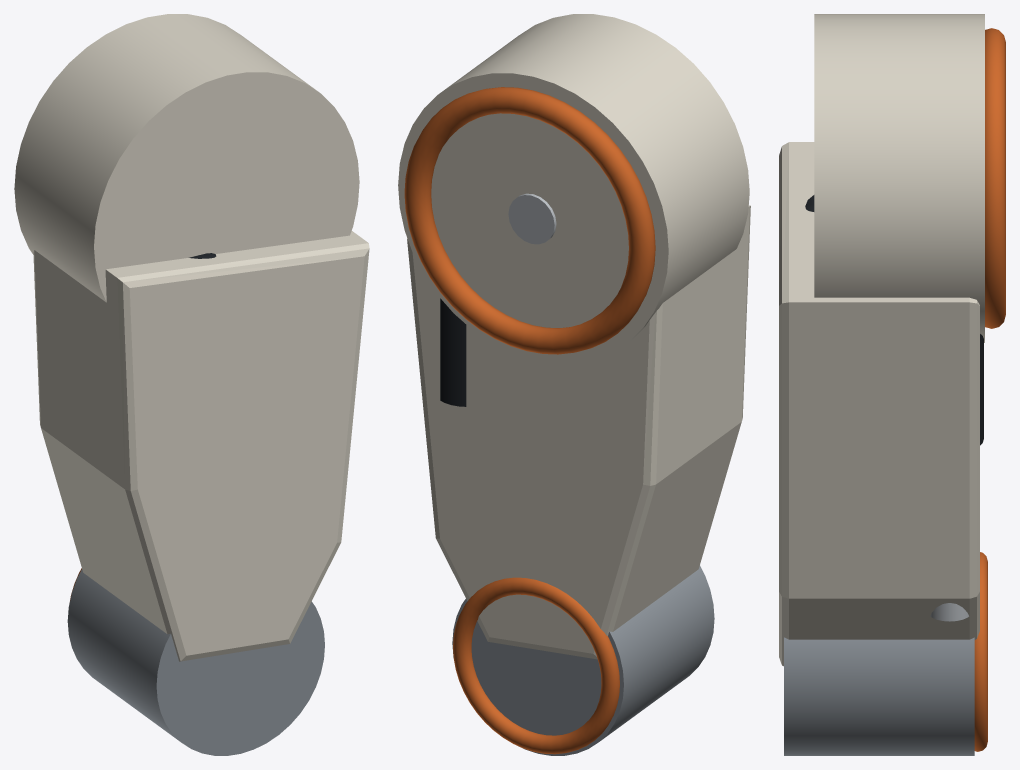
Rendered from left_thigh_link.glb.
3 renders of one model, left to right at view 1: azimuth 30°, elevation 25°; view 2: azimuth 150°, elevation 25°; view 3: azimuth 270°, elevation 25°, orthographic. The views are drawn at different scales.
Parts seen in each view (by area): view 1: left_thigh_link; view 2: left_thigh_link; view 3: left_thigh_link.
Boxes of the visible parts, x1,y1,x2,y2 form: left_thigh_link: (14, 14, 369, 755); left_thigh_link: (398, 14, 750, 755); left_thigh_link: (779, 14, 1005, 755).
Bounding box in the file's own units: 0.164 × 0.394 × 0.113.
